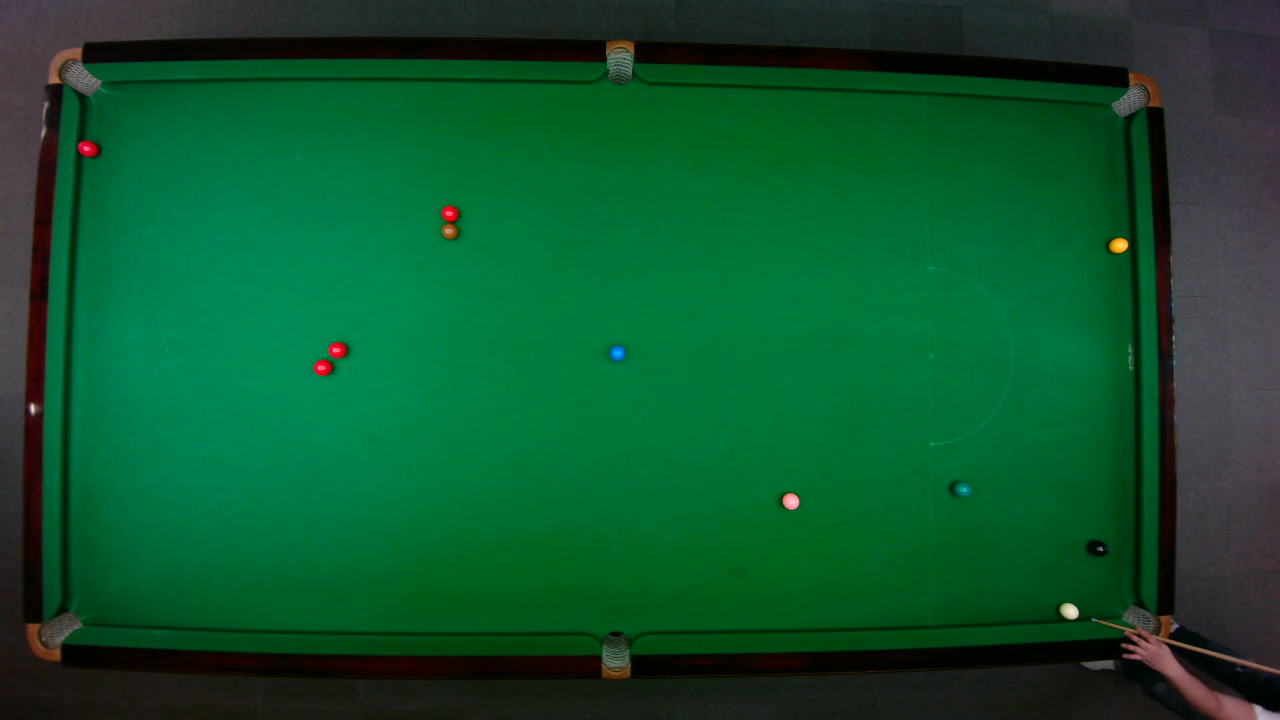bag: (25, 609, 83, 661), (45, 46, 102, 96), (1118, 604, 1172, 655), (1108, 71, 1161, 118), (600, 629, 630, 680), (605, 38, 633, 85)
black: (1087, 539, 1108, 556)
blue: (607, 343, 626, 361)
brown: (440, 223, 458, 239)
cue: (1090, 615, 1278, 676)
green: (950, 480, 972, 497)
pink: (780, 491, 800, 510)
red: (75, 139, 100, 158), (439, 203, 459, 222), (327, 340, 347, 359), (312, 358, 333, 376)
white: (1057, 600, 1079, 620)
yellow: (1107, 236, 1129, 253)
zone: (927, 266, 1013, 446)
